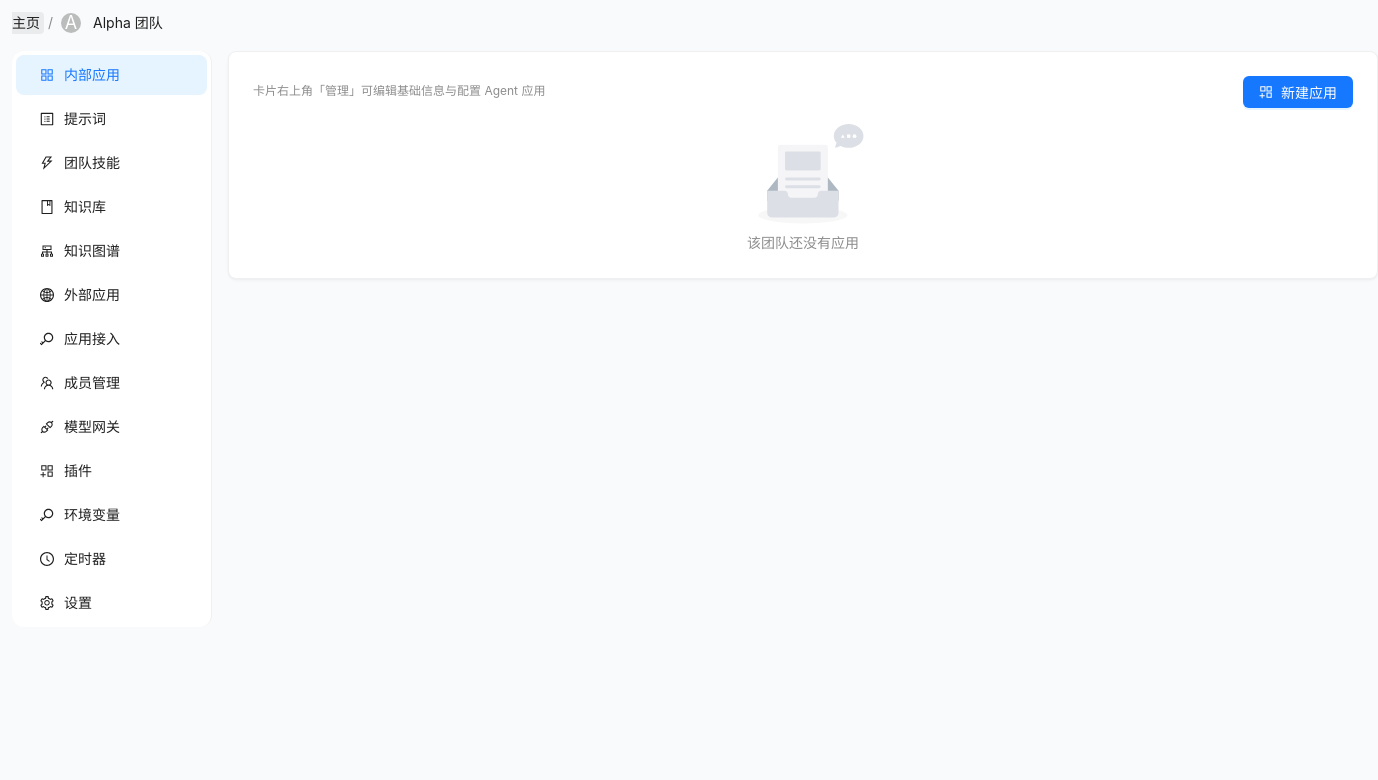
TeamManage › 知识库菜单嵌入团队知识库管理组件并按团队加载
Expected: the text "Alpha 团队" is shown, [93,12,163,34]
Click the menu item "知识库": (73, 206) [40,198,106,215]
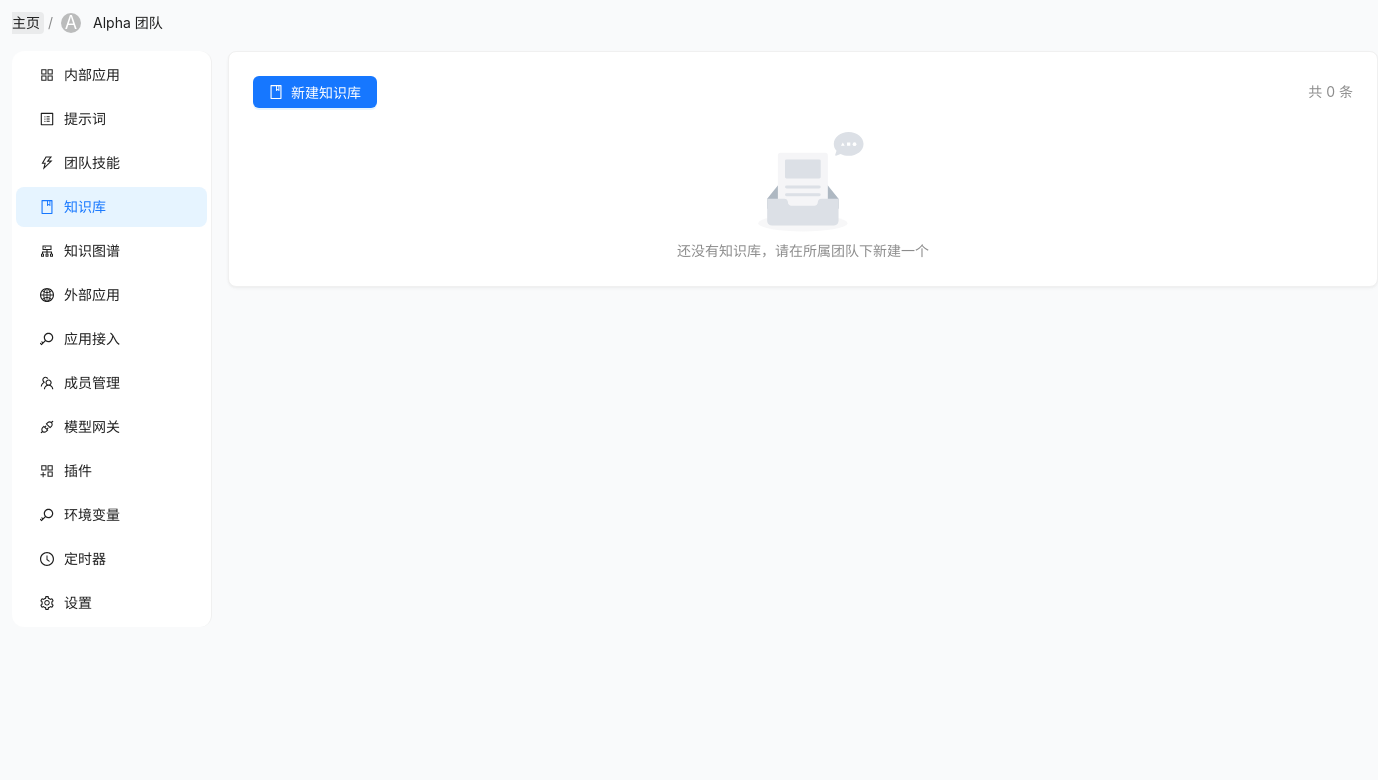
Result: the button "新建知识库" is shown at [253,76,377,108]
Click the menu item "插件": (66, 470) [40,462,92,479]
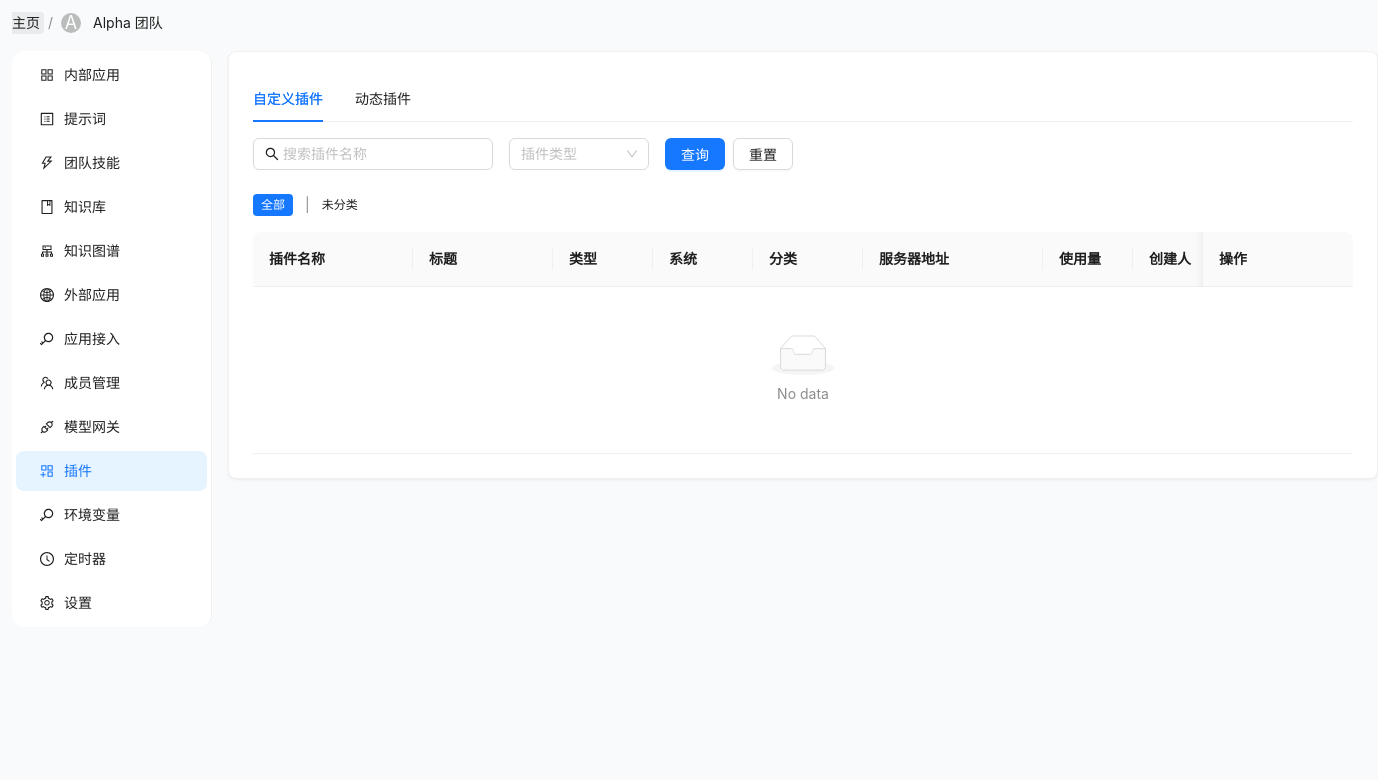
Result: the tab "自定义插件" is shown at [253,88,323,110]
Result: the tab "动态插件" is shown at [355,88,411,110]
